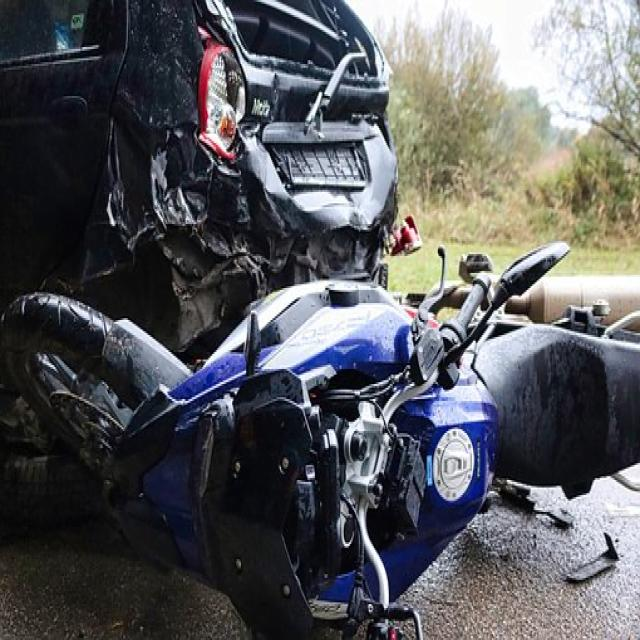accident: (0, 242, 640, 636), (0, 0, 396, 357)
